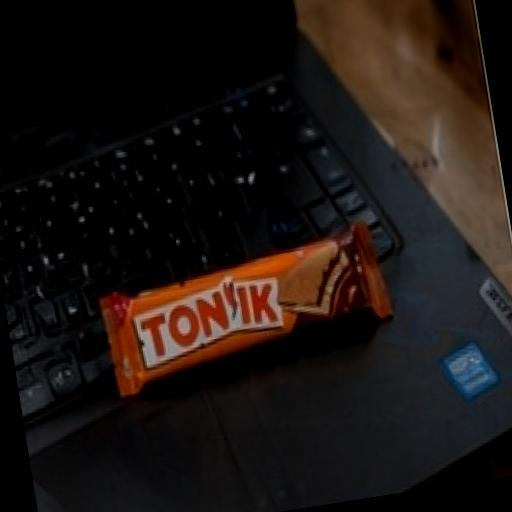tonik: (47, 139, 425, 452)
